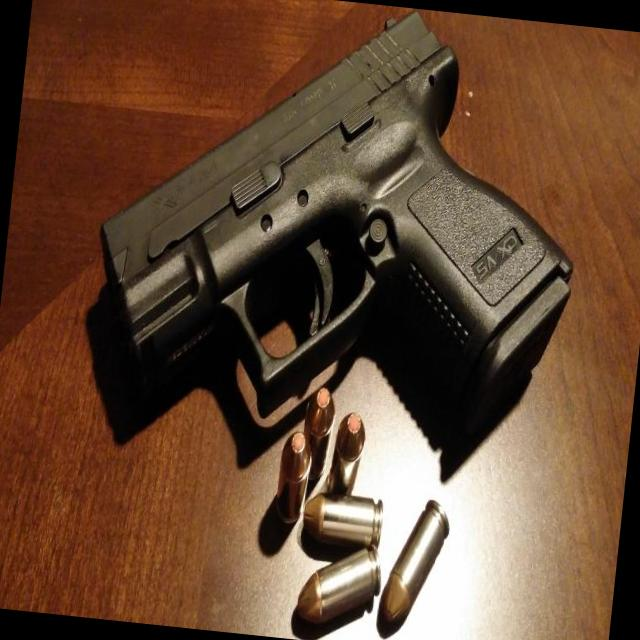Gun: (102, 12, 572, 430)
